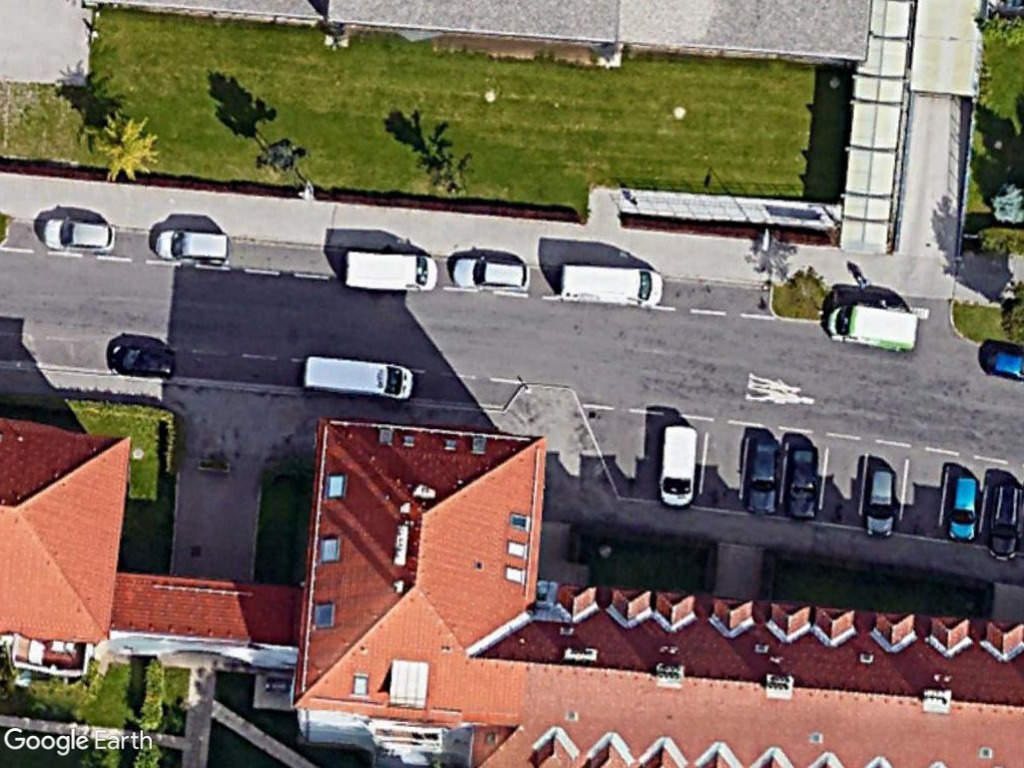car: (743, 436, 785, 517), (449, 257, 535, 295), (780, 442, 820, 523), (40, 215, 121, 254), (859, 463, 900, 540), (151, 227, 230, 264), (943, 474, 983, 546), (105, 343, 179, 381)
van: (299, 350, 415, 405), (825, 299, 921, 355), (556, 262, 666, 309), (341, 246, 441, 294), (654, 421, 699, 510)
